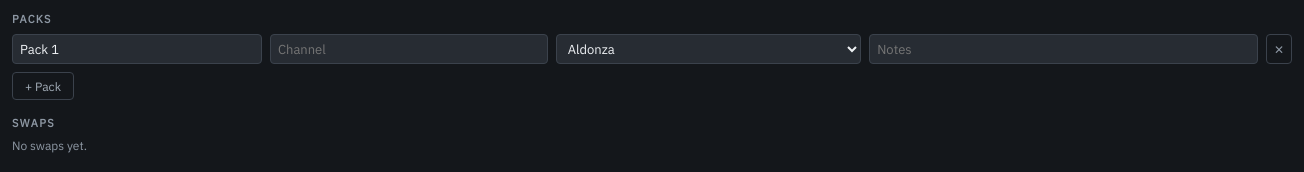
MicPlotTab › assigns a performer, recording one swap and one log line
Step 1. Select "Aldonza" in the dropdown named "Pack performer" → (708, 49), box [556, 34, 861, 64]
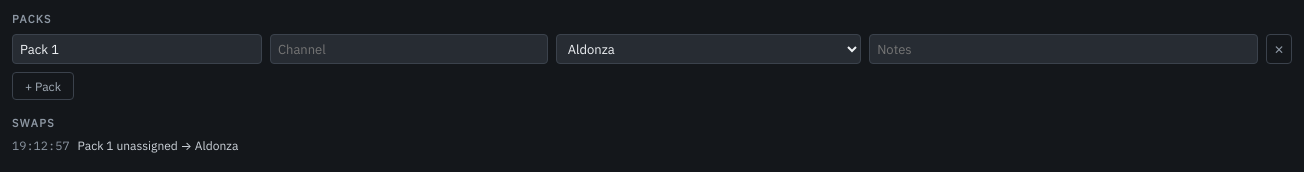
Now the text "Pack 1 unassigned → Aldonza" is shown, box [78, 138, 238, 153]
